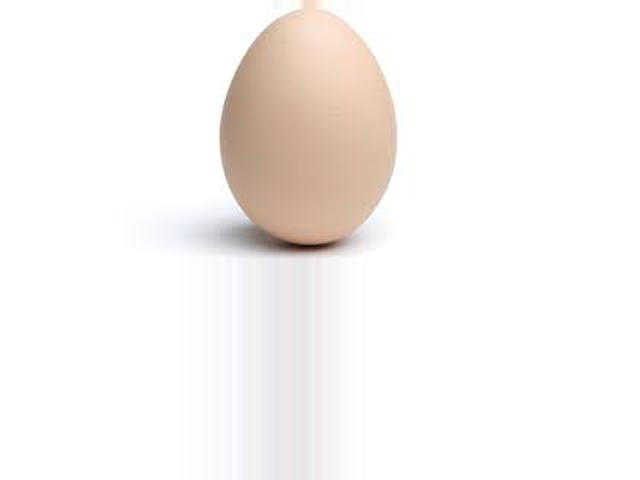egg: (220, 10, 395, 246)
